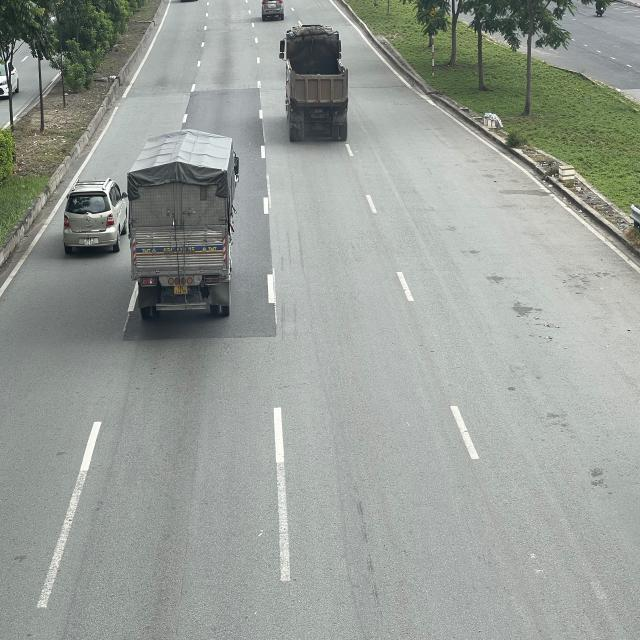car: (62, 178, 127, 254)
container: (279, 23, 350, 140)
truck: (128, 132, 240, 316)
